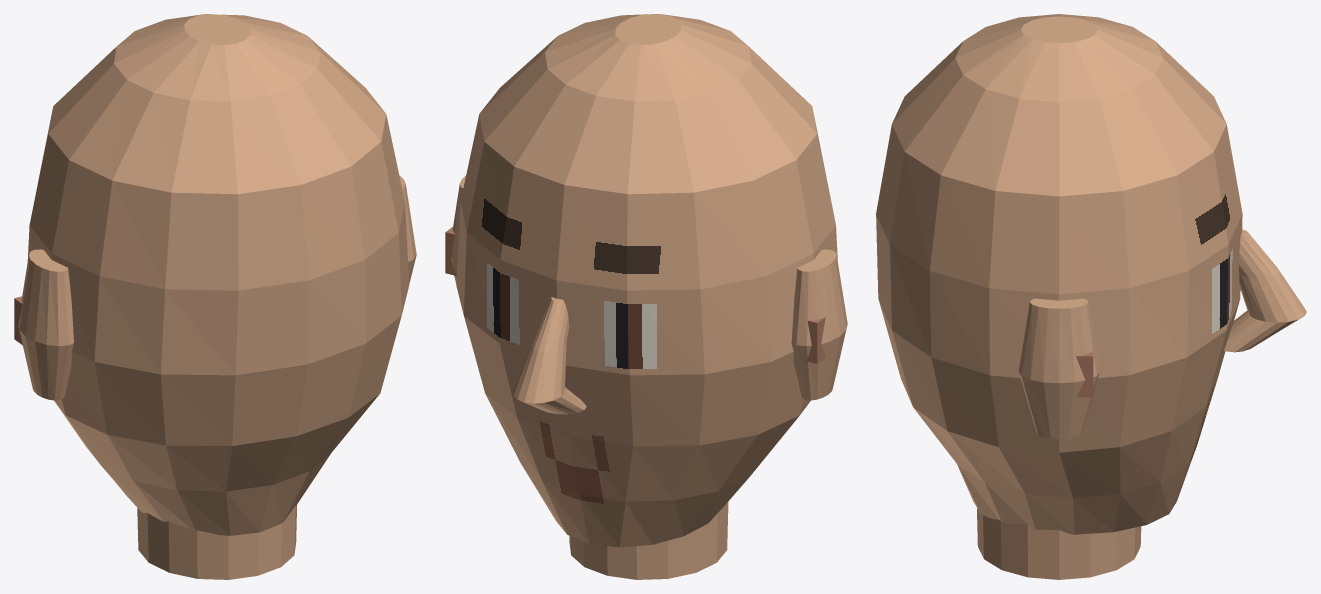
The picture shows the model from 3 angles, left to right: view 1: azimuth 30°, elevation 25°; view 2: azimuth 150°, elevation 25°; view 3: azimuth 270°, elevation 25°; orthographic projection.
Parts seen in each view (by area): view 1: 精细儿童头部母版 · 共享面孔格2; view 2: 精细儿童头部母版 · 共享面孔格2; view 3: 精细儿童头部母版 · 共享面孔格2.
Boxes of the visible parts, x1,y1,x2,y2 form: 精细儿童头部母版 · 共享面孔格2: (14, 14, 416, 579); 精细儿童头部母版 · 共享面孔格2: (445, 14, 847, 579); 精细儿童头部母版 · 共享面孔格2: (876, 14, 1306, 579).
Bounding box in the file's own units: 0.196 × 0.252 × 0.1904.
3 materials, 3 textured.
